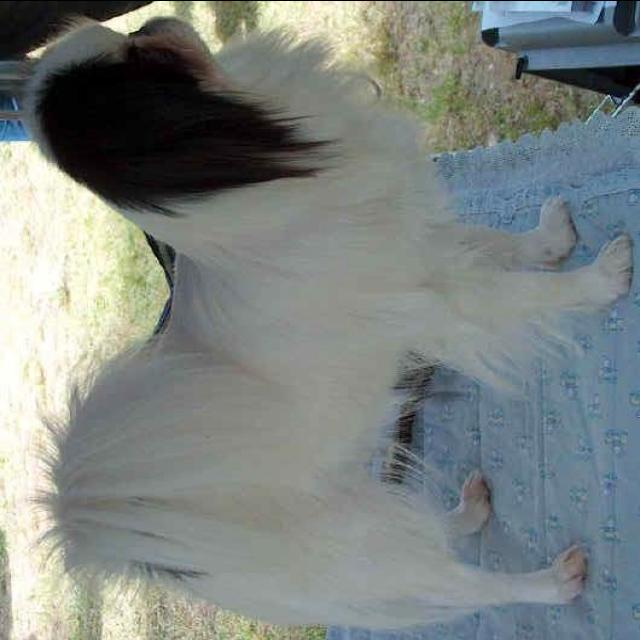husky: (20, 14, 628, 628)
